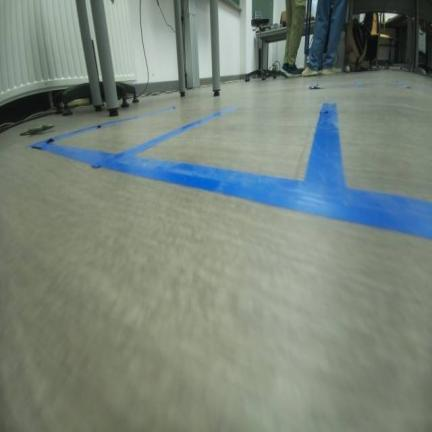place: (96, 102, 347, 223), (299, 99, 431, 239), (27, 105, 240, 170)
